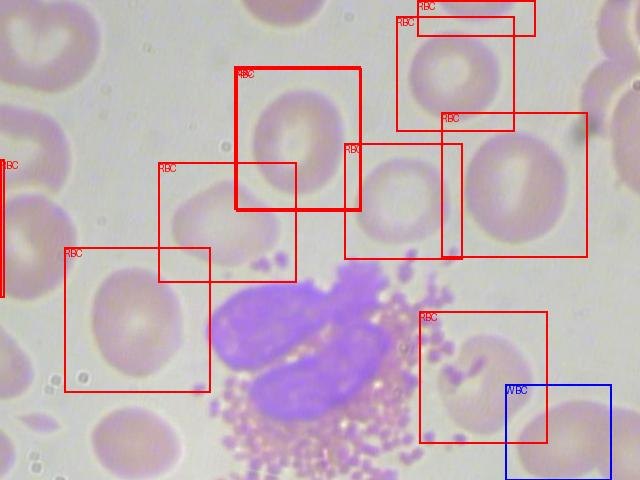RBC: (64, 247, 210, 392), (441, 112, 587, 257), (234, 66, 360, 209), (236, 68, 361, 211), (419, 311, 547, 443), (158, 162, 296, 282), (344, 143, 462, 259), (396, 16, 514, 131), (417, 0, 535, 36), (0, 159, 4, 297)
WBC: (505, 384, 611, 480)
